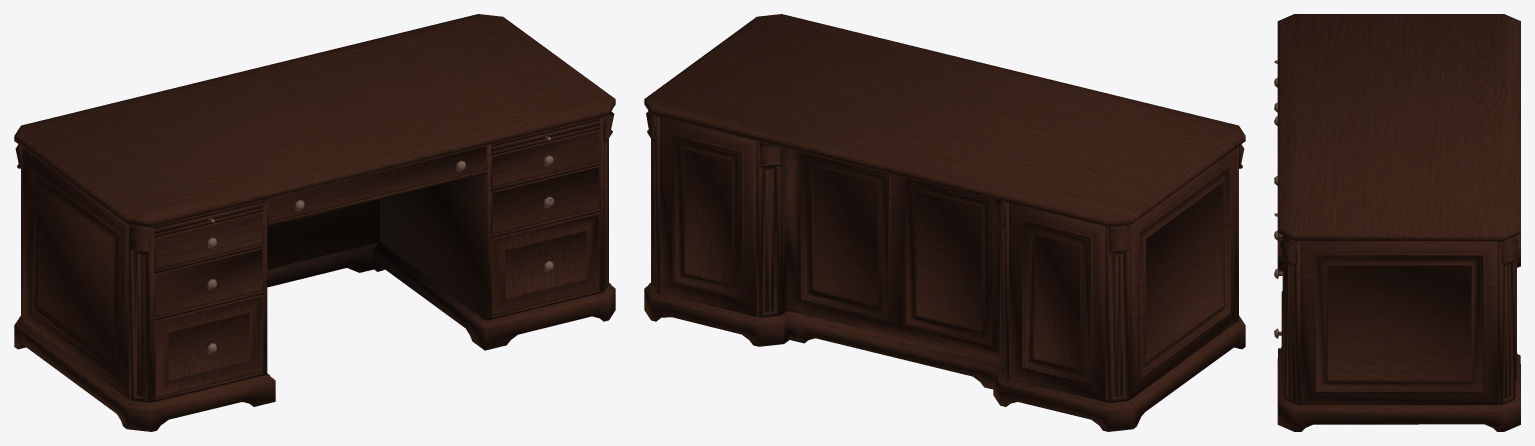
Rendered from desk.obj.
3 views of the same model, side by side, from view 1: azimuth 30°, elevation 25°; view 2: azimuth 150°, elevation 25°; view 3: azimuth 270°, elevation 25° (orthographic). The views are drawn at different scales.
Parts seen in each view (by area): view 1: 10240_Office_Desk_v3_max2011; view 2: 10240_Office_Desk_v3_max2011; view 3: 10240_Office_Desk_v3_max2011.
Boxes of the visible parts, box(x1,y1,x2,y2) form: 10240_Office_Desk_v3_max2011: box(14, 14, 615, 431); 10240_Office_Desk_v3_max2011: box(644, 14, 1245, 431); 10240_Office_Desk_v3_max2011: box(1274, 14, 1520, 431).
Bounding box in the file's own units: 2.81 × 1.17 × 1.32.
1 material, 1 textured.
